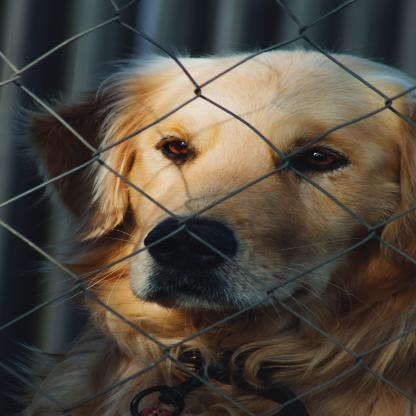dog: (82, 54, 416, 416)
